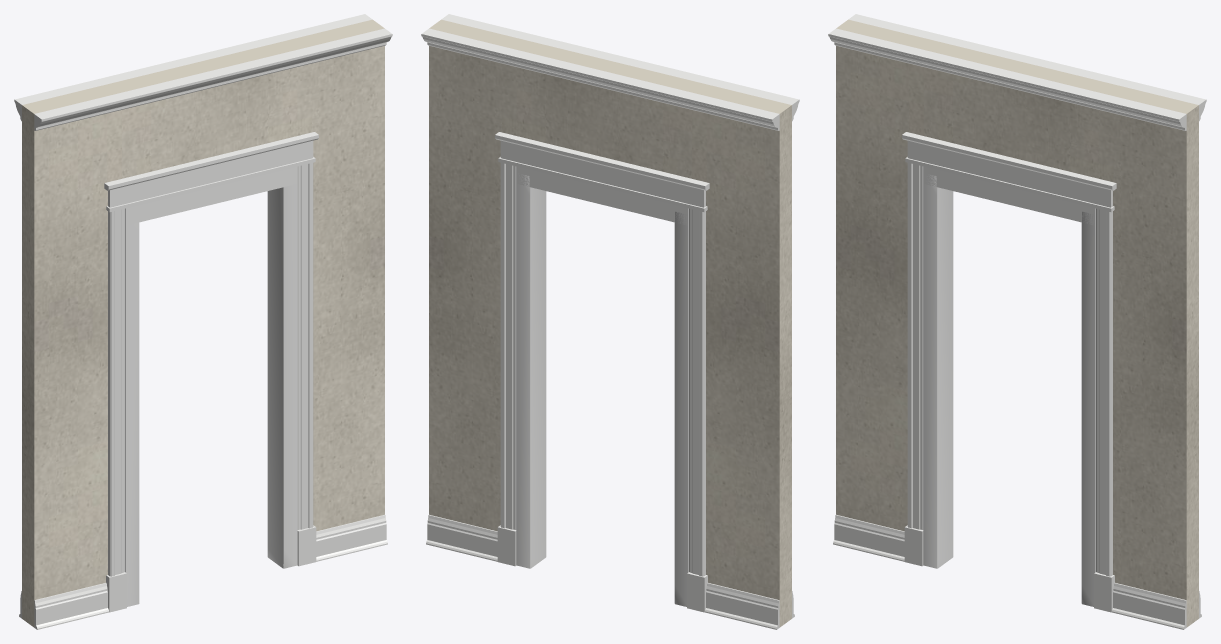
The model's file is interior_wall_doorway.glb.
3 views of the same model, side by side, from view 1: azimuth 30°, elevation 25°; view 2: azimuth 150°, elevation 25°; view 3: azimuth 330°, elevation 25° (orthographic).
Parts seen in each view (by area): view 1: interior_wall_doorway_plaster, molduras, interior_wall_doorway_frame; view 2: interior_wall_doorway_plaster, molduras, interior_wall_doorway_frame; view 3: interior_wall_doorway_plaster, molduras, interior_wall_doorway_frame.
Boxes of the visible parts, box(x1,y1,x2,y2) form: interior_wall_doorway_plaster: box(22, 19, 384, 627); molduras: box(14, 14, 392, 629); interior_wall_doorway_frame: box(125, 166, 297, 606); interior_wall_doorway_plaster: box(429, 19, 791, 627); molduras: box(421, 14, 799, 629); interior_wall_doorway_frame: box(516, 166, 688, 606); interior_wall_doorway_plaster: box(836, 19, 1198, 627); molduras: box(828, 14, 1206, 629); interior_wall_doorway_frame: box(923, 166, 1095, 606).
Bounding box in the file's own units: 2 × 2.8 × 0.27.
3 materials, 1 textured.
